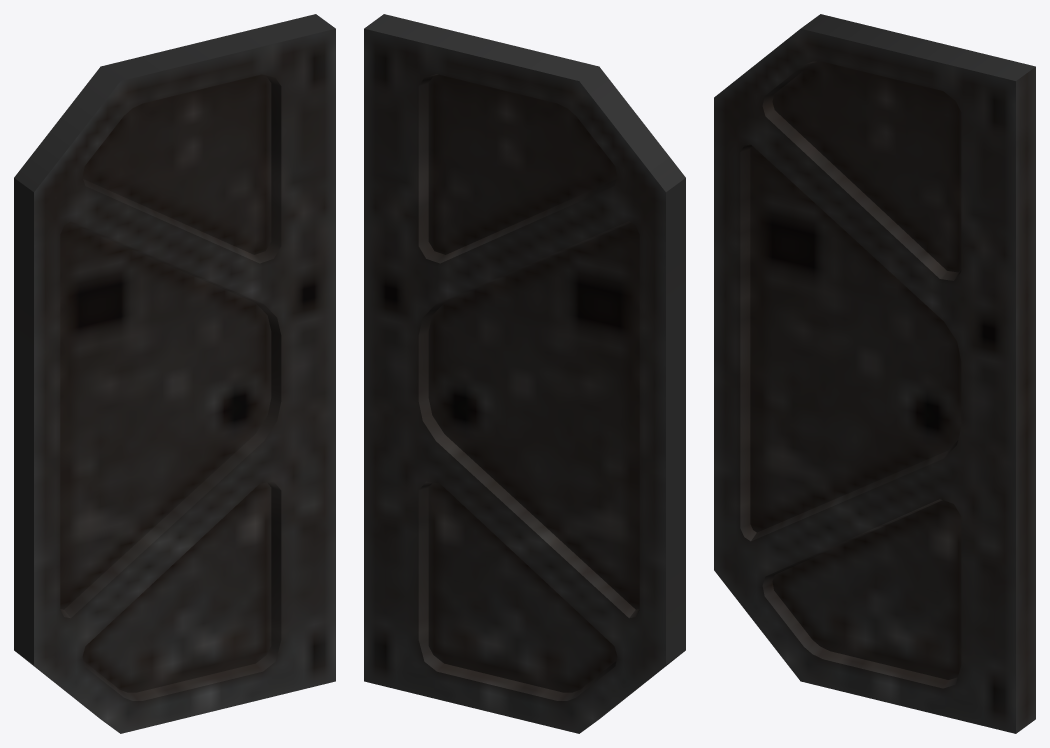
File: Door_1_L.FBX
The picture shows the model from 3 angles, left to right: view 1: azimuth 30°, elevation 25°; view 2: azimuth 150°, elevation 25°; view 3: azimuth 330°, elevation 25°; orthographic projection.
Parts seen in each view (by area): view 1: Door_1_L; view 2: Door_1_L; view 3: Door_1_L.
Part boxes in pixels (left/top/right/bottom): Door_1_L: left=14, top=14, right=335, bottom=733; Door_1_L: left=364, top=14, right=685, bottom=733; Door_1_L: left=714, top=14, right=1035, bottom=733.
Size of the model in its own units: 142 by 294 by 16.33.
